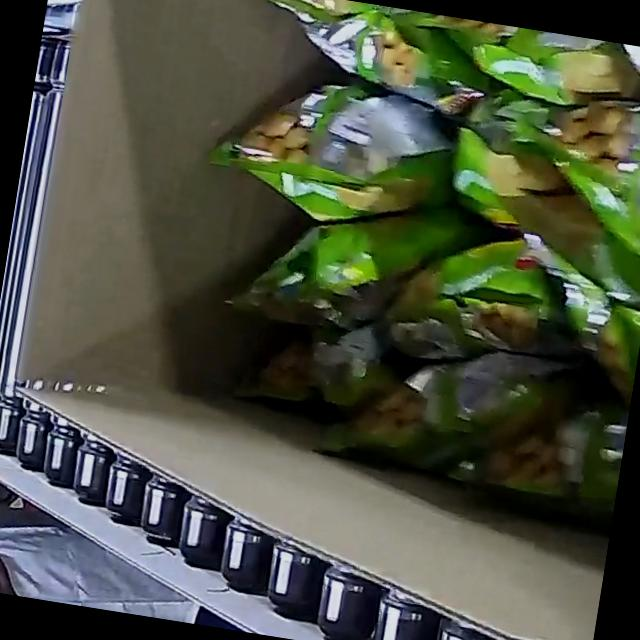yogurt: (159, 0, 640, 516)
